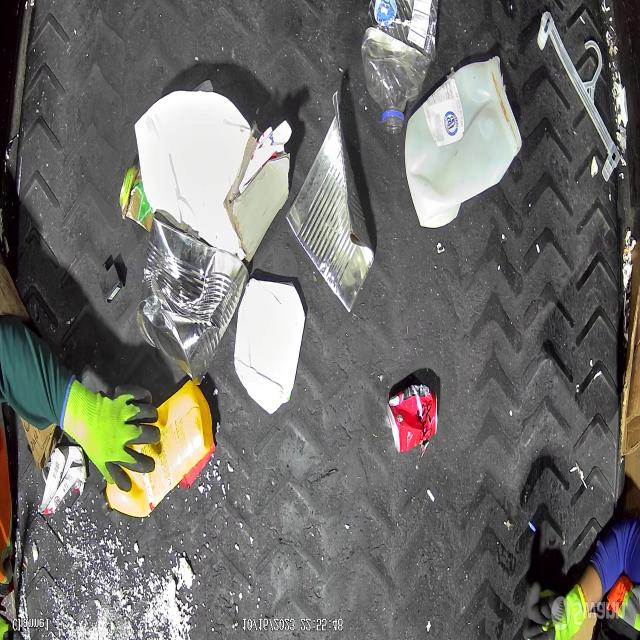can: (285, 90, 374, 313), (137, 212, 248, 386), (387, 384, 438, 455)
milk_jug: (404, 55, 522, 228)
non_white_jug: (101, 378, 214, 516)
plastic_bottle: (362, 0, 438, 134)
